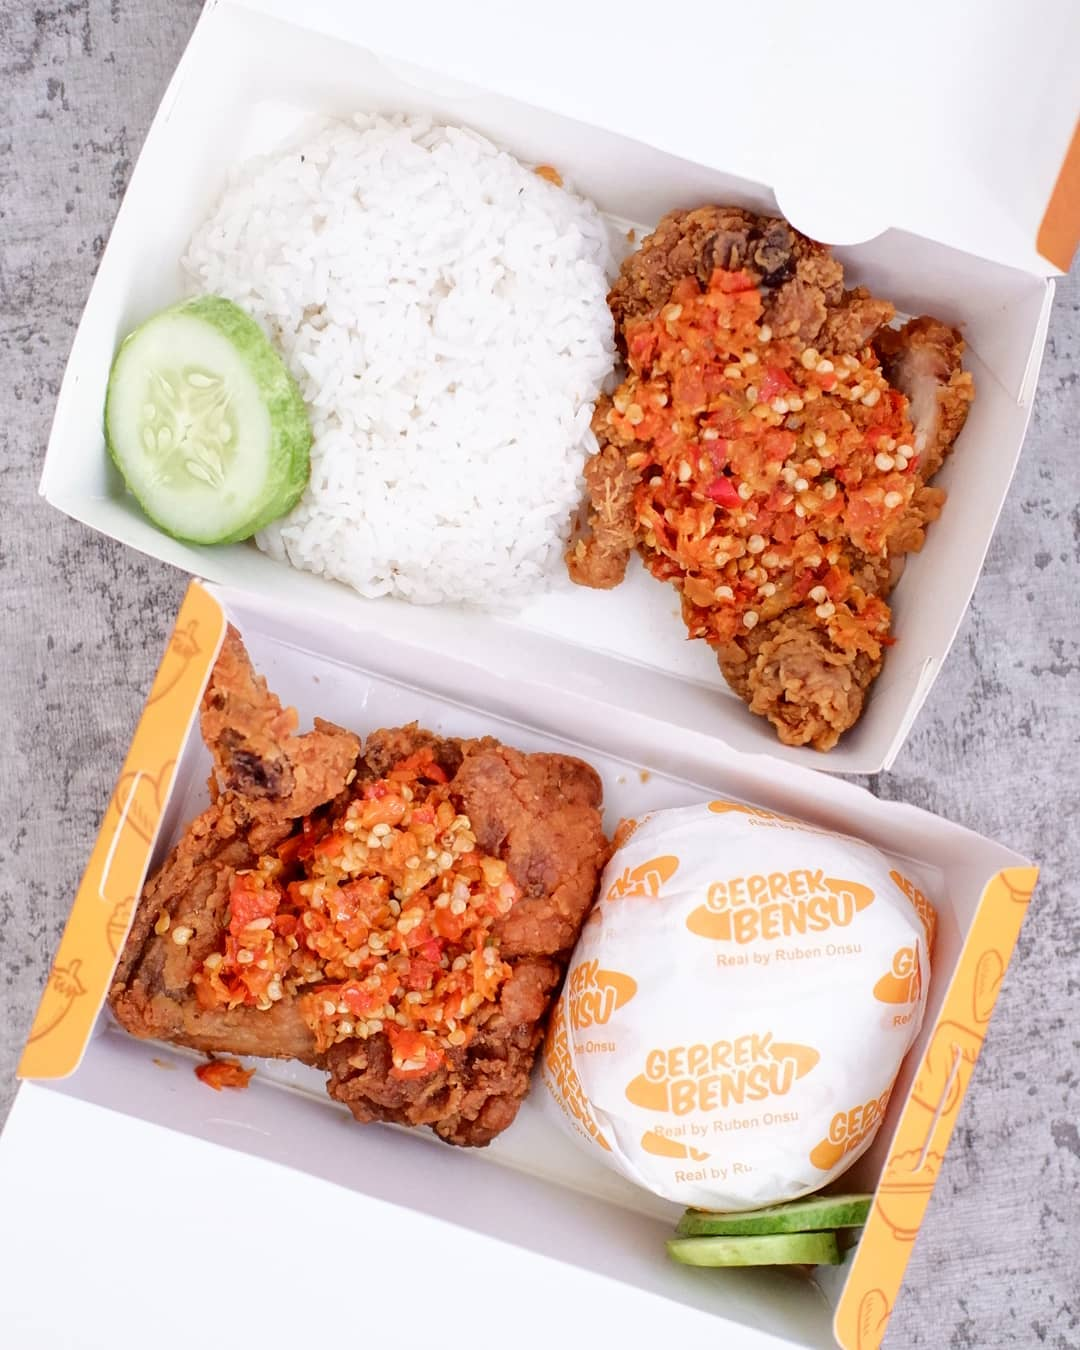ayam_geprek: (149, 662, 622, 1187), (611, 215, 1011, 765)
